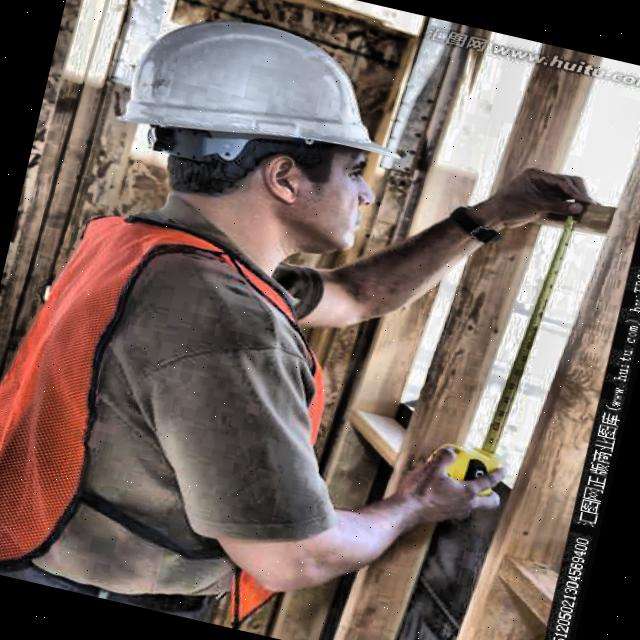helmet: (86, 0, 420, 282)
